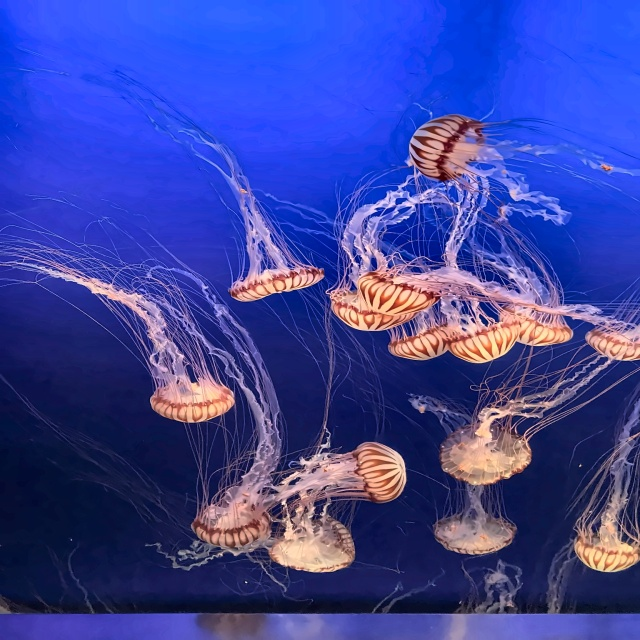jellyfish: (441, 423, 529, 485), (268, 513, 355, 572), (410, 115, 485, 181), (152, 380, 233, 424), (228, 265, 324, 302), (358, 271, 441, 312), (331, 292, 413, 332), (355, 440, 406, 504), (435, 516, 515, 555), (449, 320, 521, 363), (193, 506, 265, 547), (390, 321, 460, 362), (499, 308, 572, 347), (575, 536, 639, 573), (585, 328, 639, 362)
